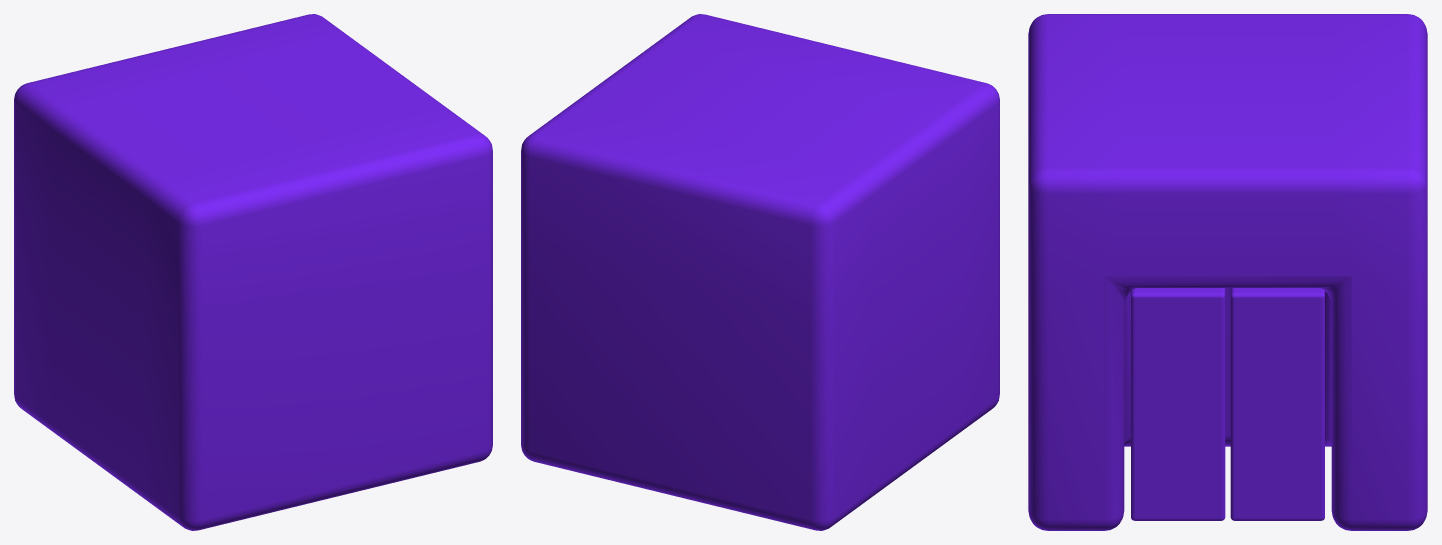
Rendered from elevator.glb.
3 renders of one model, left to right at view 1: azimuth 30°, elevation 25°; view 2: azimuth 150°, elevation 25°; view 3: azimuth 270°, elevation 25°, orthographic. The views are drawn at different scales.
Visible parts, largest first — view 1: Elevator.Walls; view 2: Elevator.Walls; view 3: Elevator.Walls, Elevator.Door.L, Elevator.Door.R.
Part boxes in pixels (left/top/right/bottom): Elevator.Walls: left=14, top=14, right=492, bottom=530; Elevator.Walls: left=521, top=14, right=999, bottom=530; Elevator.Walls: left=1028, top=14, right=1427, bottom=530; Elevator.Door.L: left=1131, top=288, right=1225, bottom=520; Elevator.Door.R: left=1230, top=288, right=1324, bottom=520.
Size of the model in its own units: 2 by 2 by 2.
